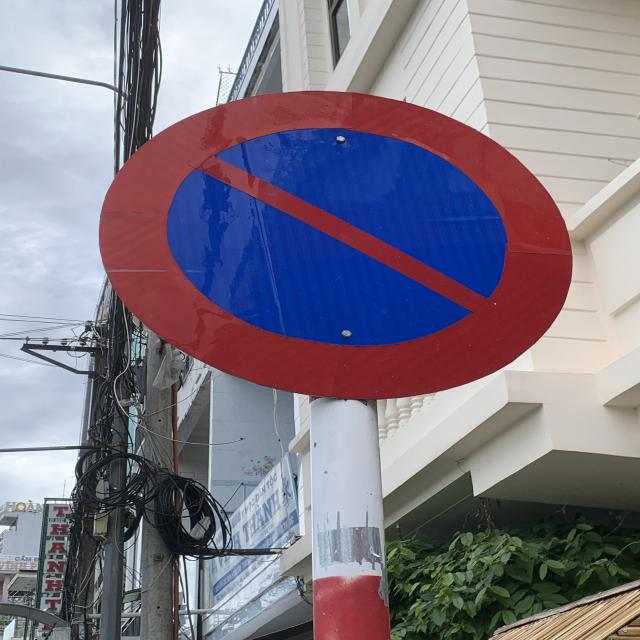Cam_Dau_Xe: (98, 90, 574, 400)
